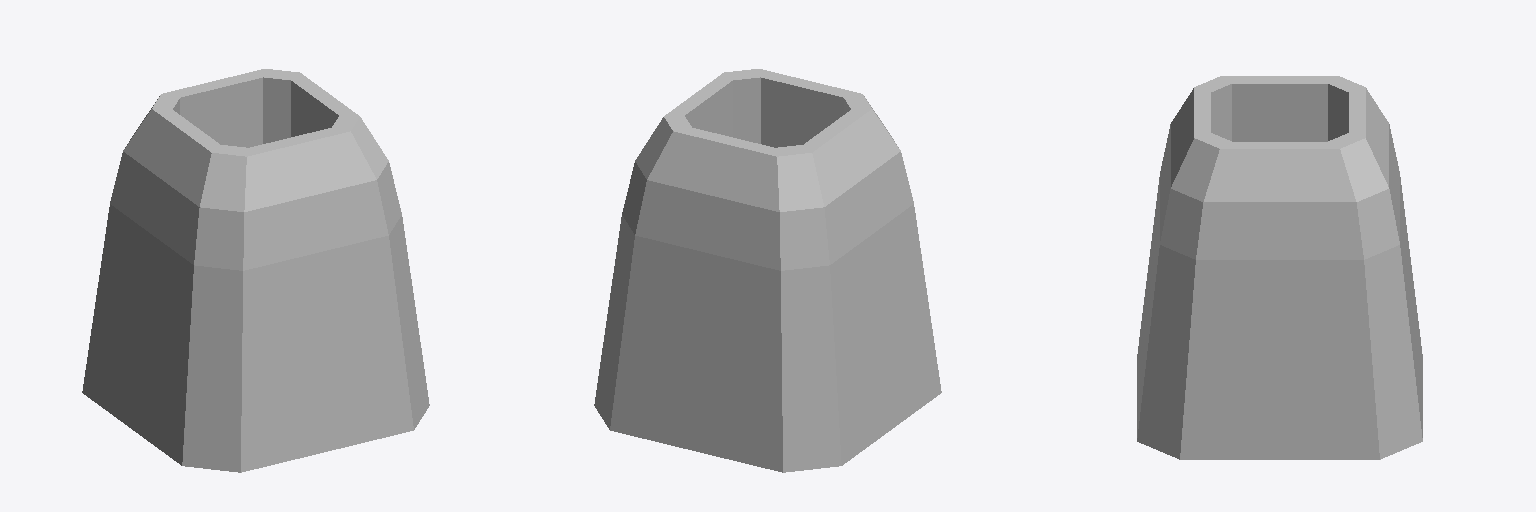
File: Nuclear_lowpoly.obj
3 renders of one model, left to right at view 1: azimuth 30°, elevation 25°; view 2: azimuth 150°, elevation 25°; view 3: azimuth 270°, elevation 25°, orthographic.
Parts seen in each view (by area): view 1: Cylinder; view 2: Cylinder; view 3: Cylinder.
Boxes of the visible parts, x1,y1,x2,y2 form: Cylinder: [82, 69, 429, 472]; Cylinder: [594, 69, 941, 472]; Cylinder: [1137, 76, 1422, 459].
Bounding box in the file's own units: 2 × 2.21 × 2.